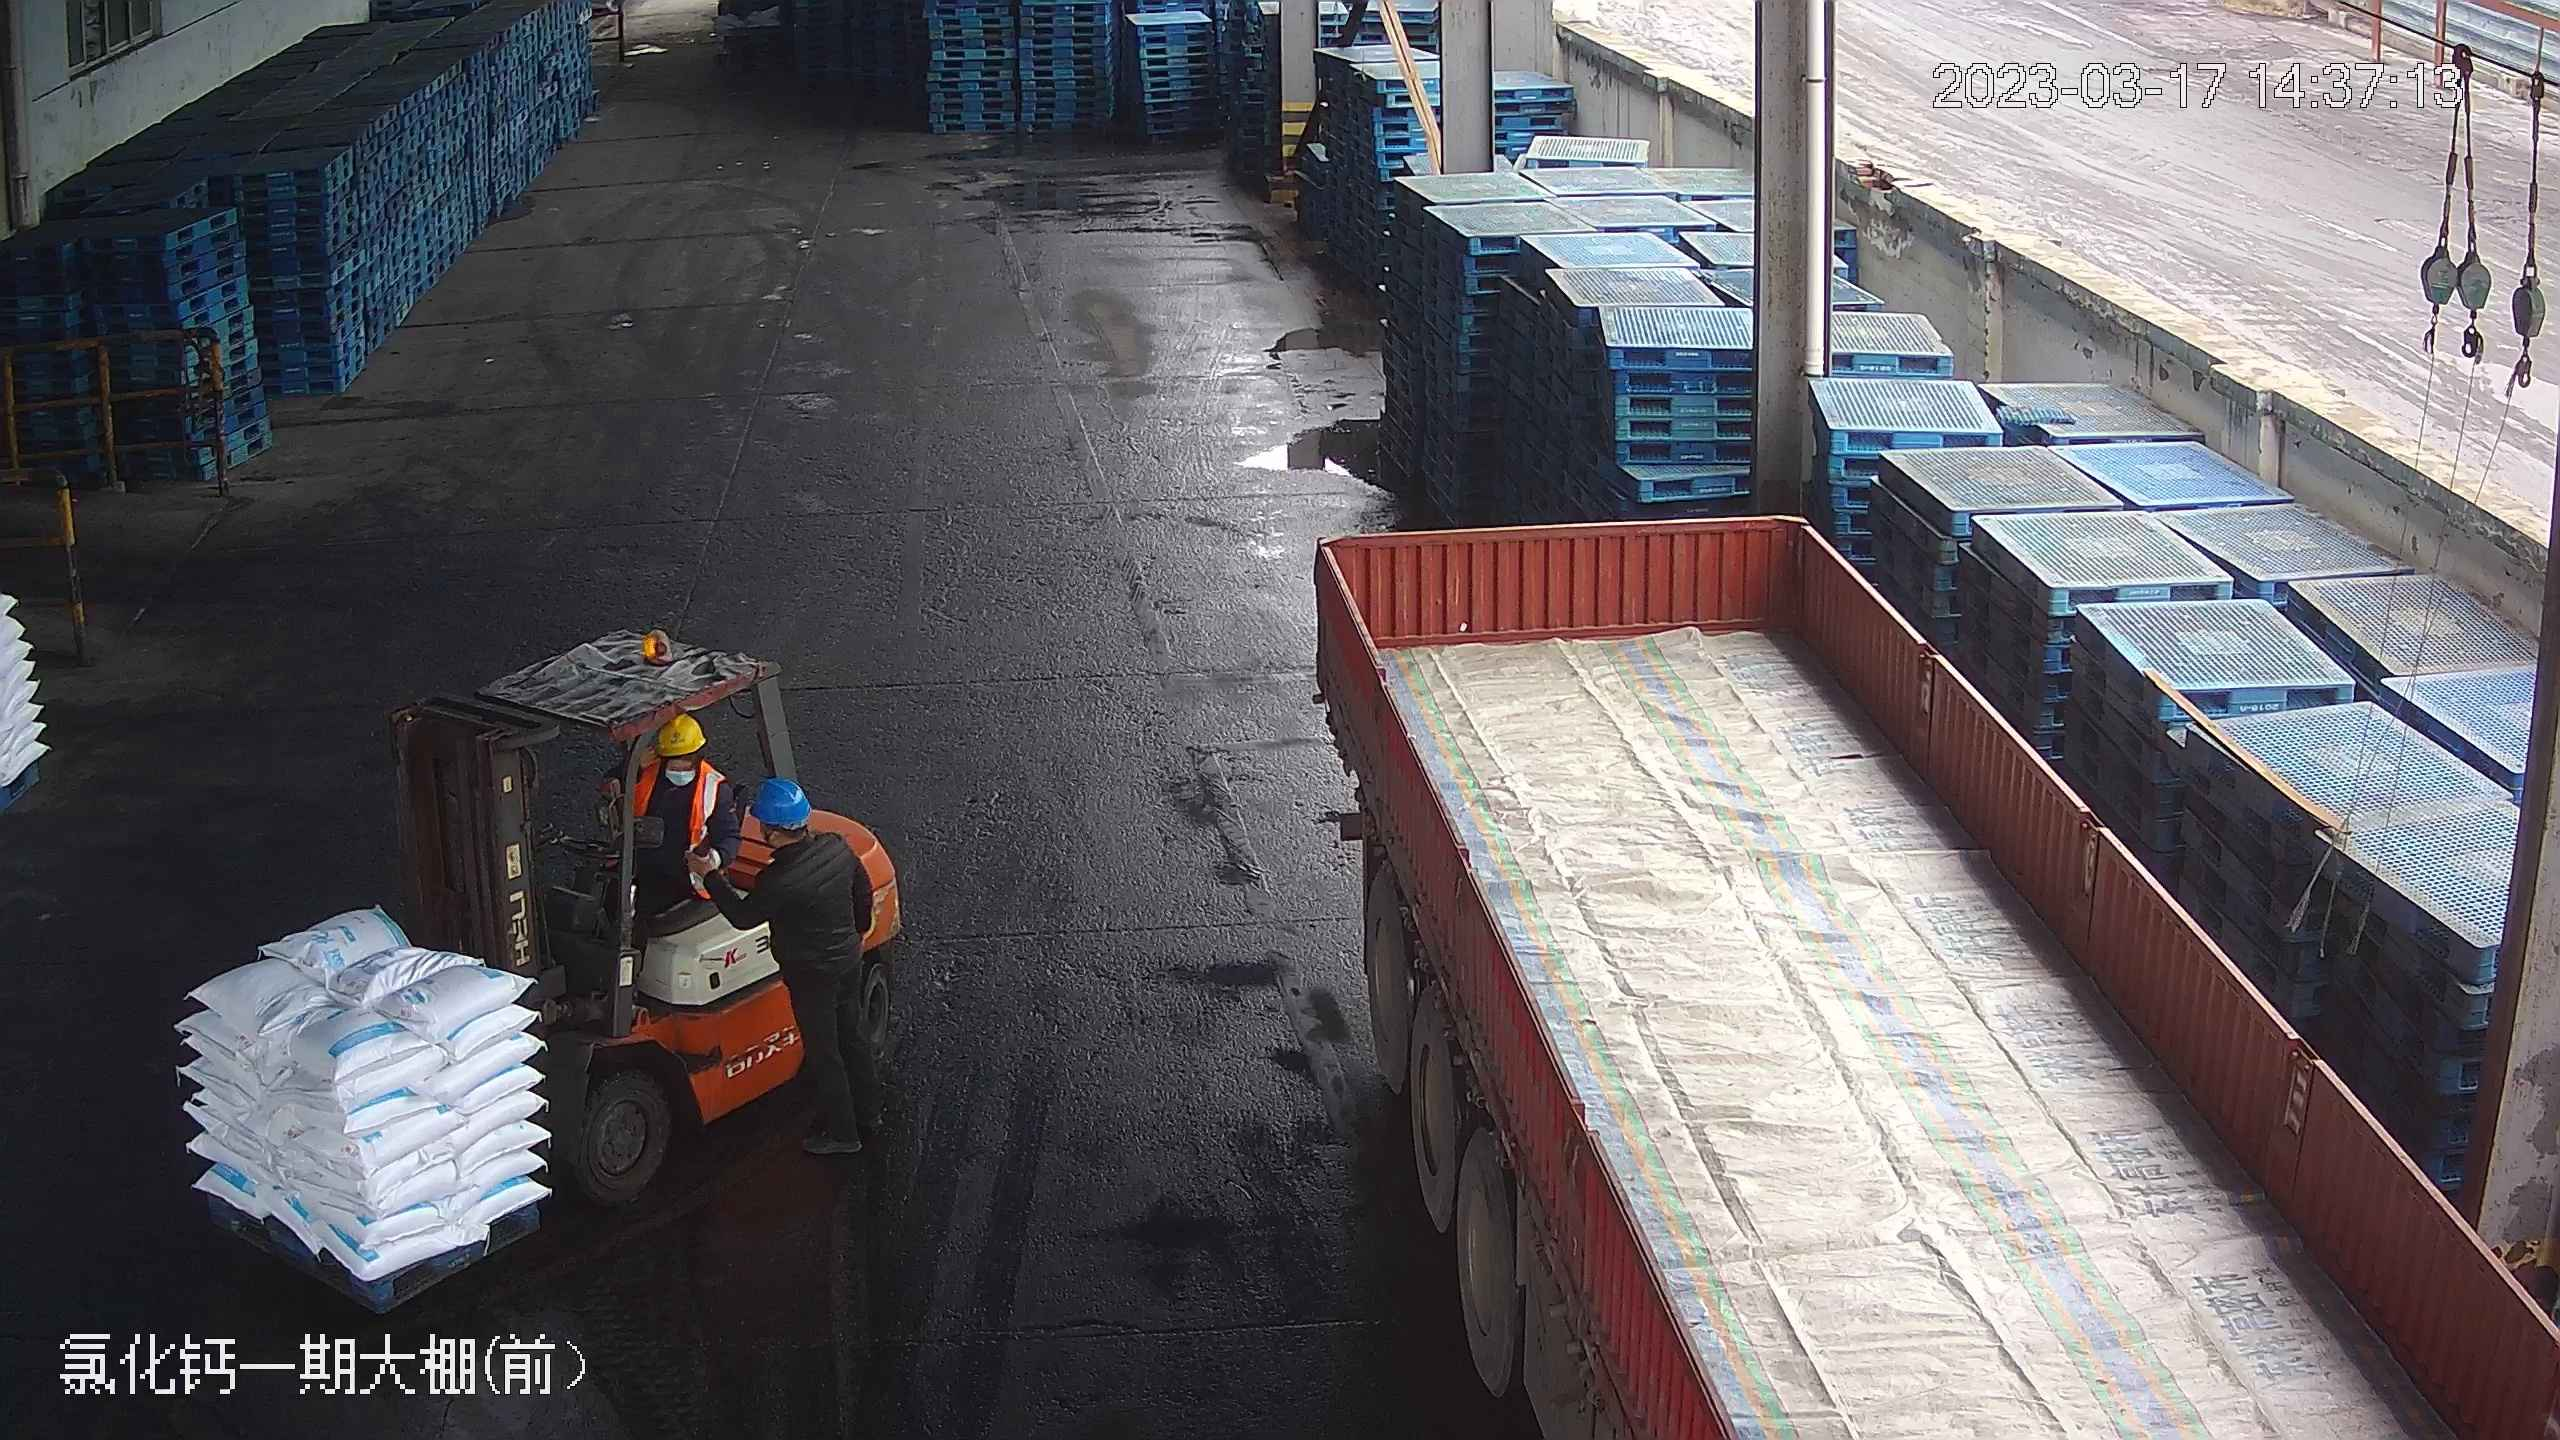head: (740, 777, 869, 907), (642, 711, 724, 809)
helmet: (752, 776, 811, 826), (658, 713, 706, 755)
people: (734, 775, 893, 1162)
truck: (1304, 504, 2550, 1440)
